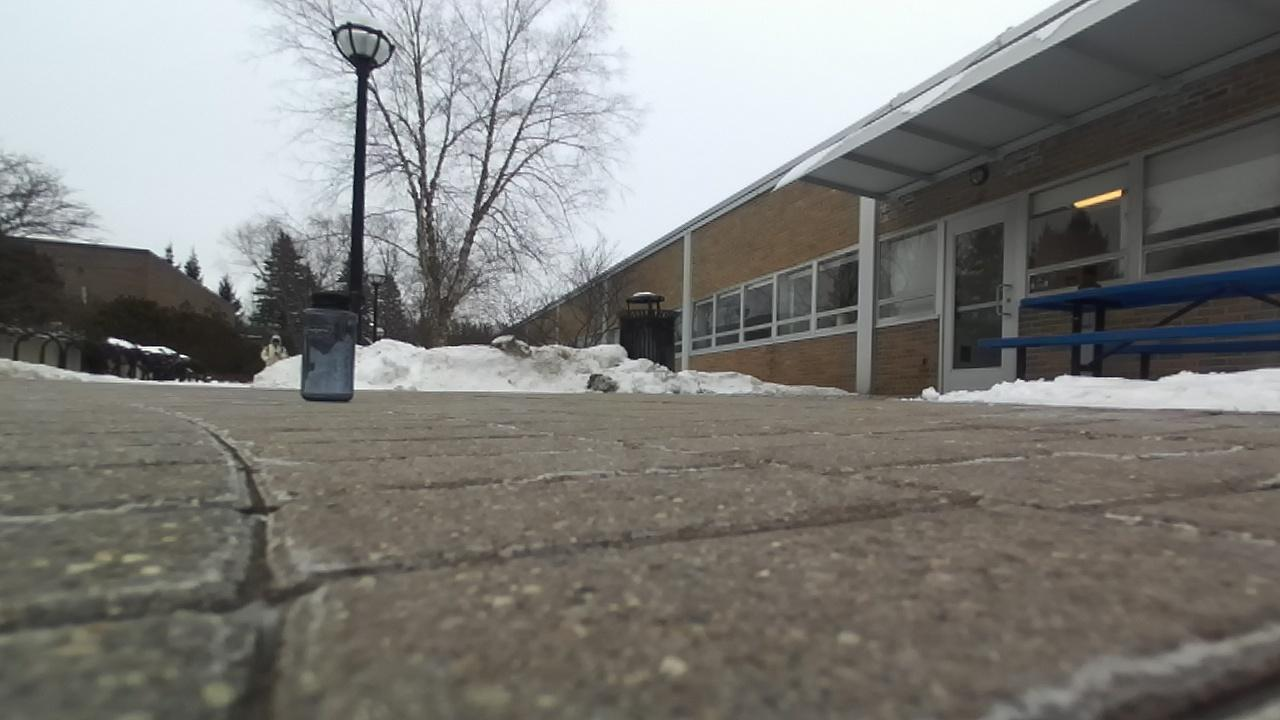bottle: (301, 292, 358, 400)
